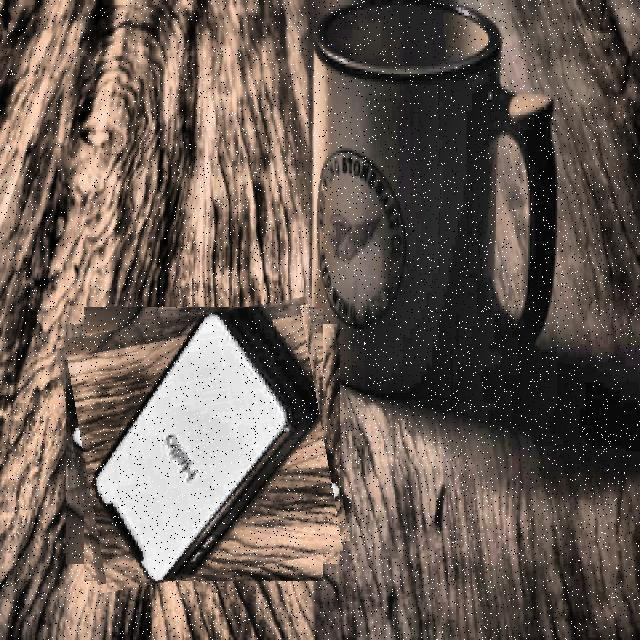Phone: (65, 306, 341, 583)
